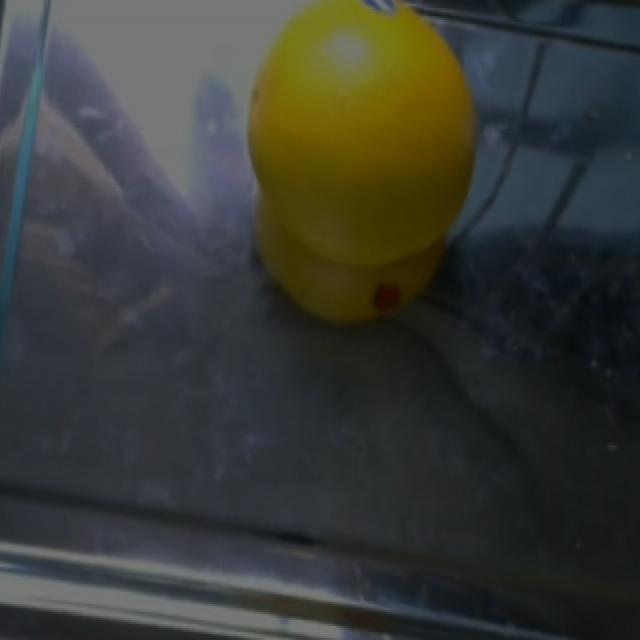Fruit: (221, 0, 499, 348)
